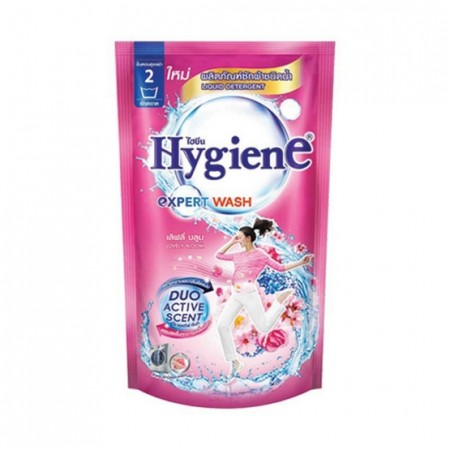Cleaning_solution: (104, 32, 339, 415)
